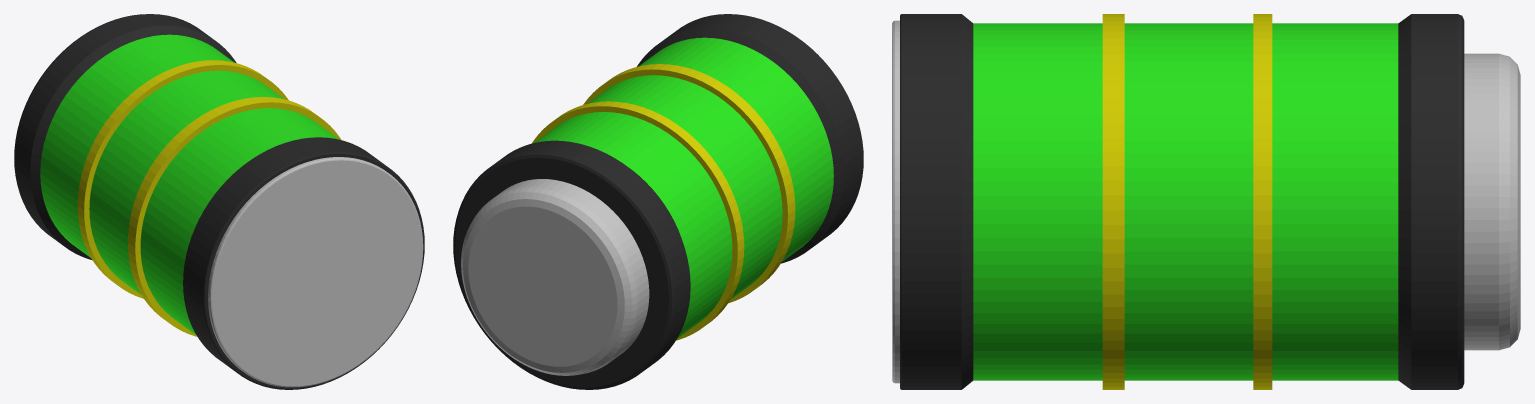
File: battery3.fbx
3 views of the same model, side by side, from view 1: azimuth 30°, elevation 25°; view 2: azimuth 150°, elevation 25°; view 3: azimuth 270°, elevation 25° (orthographic). The views are drawn at different scales.
Parts seen in each view (by area): view 1: Battery; view 2: Battery; view 3: Battery.
Boxes of the visible parts, x1=… form: Battery: x1=14, y1=14, x2=424, y2=389; Battery: x1=453, y1=14, x2=863, y2=389; Battery: x1=892, y1=14, x2=1520, y2=389.
Size of the model in its own units: 200 by 200 by 334.
